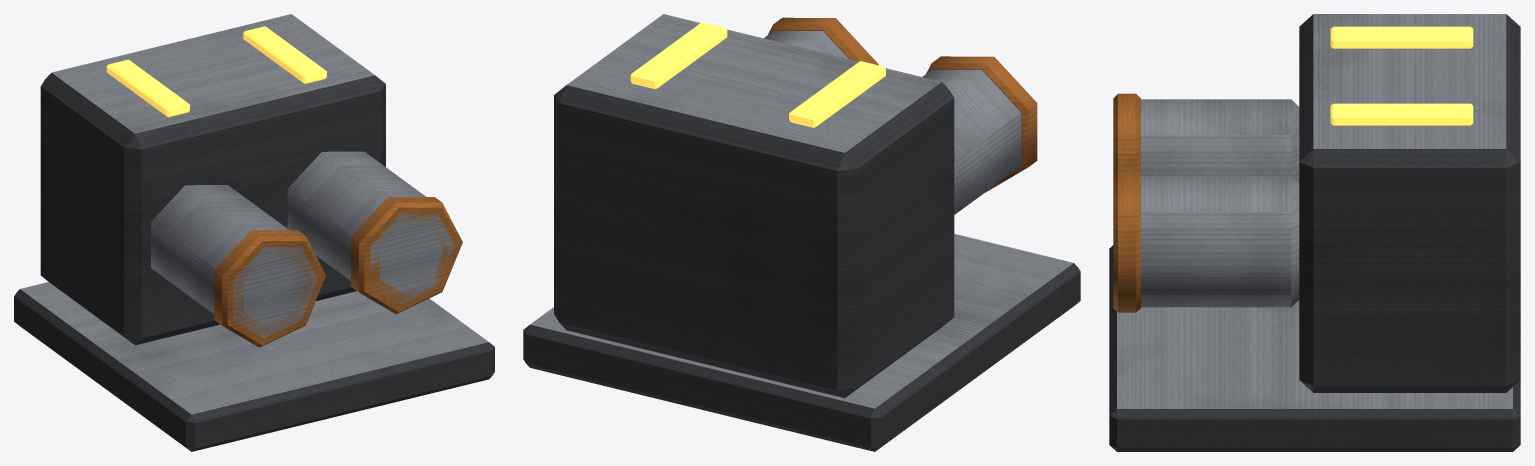
Rendered from R4X_DoubleShotPassive_LOD1.glb.
3 views of the same model, side by side, from view 1: azimuth 30°, elevation 25°; view 2: azimuth 150°, elevation 25°; view 3: azimuth 270°, elevation 25° (orthographic). The views are drawn at different scales.
Visible parts, largest first — view 1: R4X_DoubleShotPassive_LOD1; view 2: R4X_DoubleShotPassive_LOD1; view 3: R4X_DoubleShotPassive_LOD1.
Part boxes in pixels (x1,y1,x2,y2): R4X_DoubleShotPassive_LOD1: (14, 14, 494, 451); R4X_DoubleShotPassive_LOD1: (523, 14, 1080, 451); R4X_DoubleShotPassive_LOD1: (1109, 14, 1520, 451).
Bounding box in the file's own units: 0.52 × 0.415 × 0.52.
4 materials, 3 textured.
